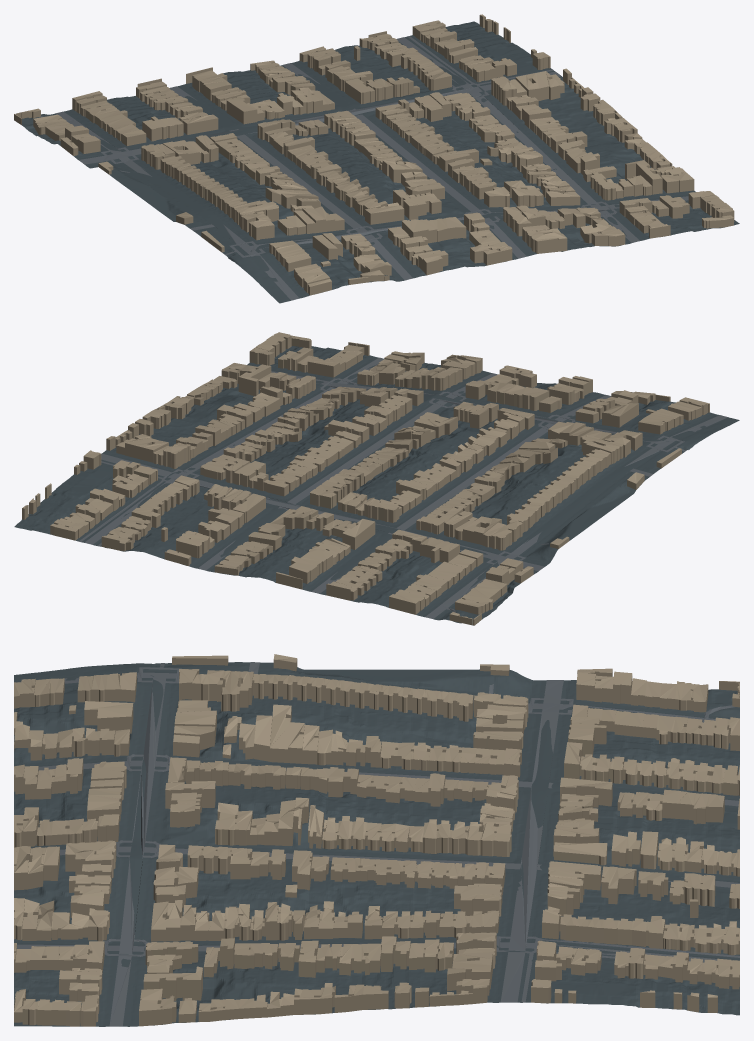
Rendered from epsg26910-1419-10888.lod0.glb.
3 renders of one model, top to bottom at view 1: azimuth 30°, elevation 25°; view 2: azimuth 150°, elevation 25°; view 3: azimuth 270°, elevation 25°, orthographic. The views are drawn at different scales.
Parts seen in each view (by area): view 1: epsg26910-1419-10888-lod0; view 2: epsg26910-1419-10888-lod0; view 3: epsg26910-1419-10888-lod0.
Boxes of the visible parts, x1,y1,x2,y2 form: epsg26910-1419-10888-lod0: (14,14,739,303); epsg26910-1419-10888-lod0: (14,332,739,625); epsg26910-1419-10888-lod0: (14,654,739,1026).
Size of the model in its own units: 384 by 45.08 by 384.
